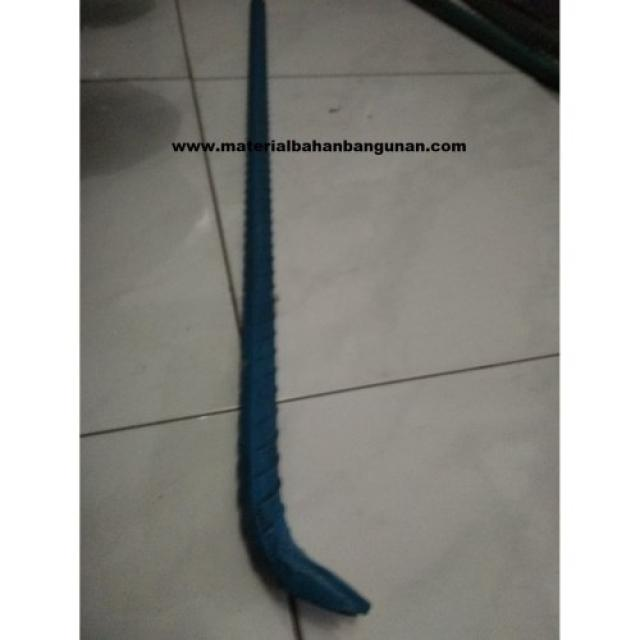Linggis: (245, 8, 370, 616)
